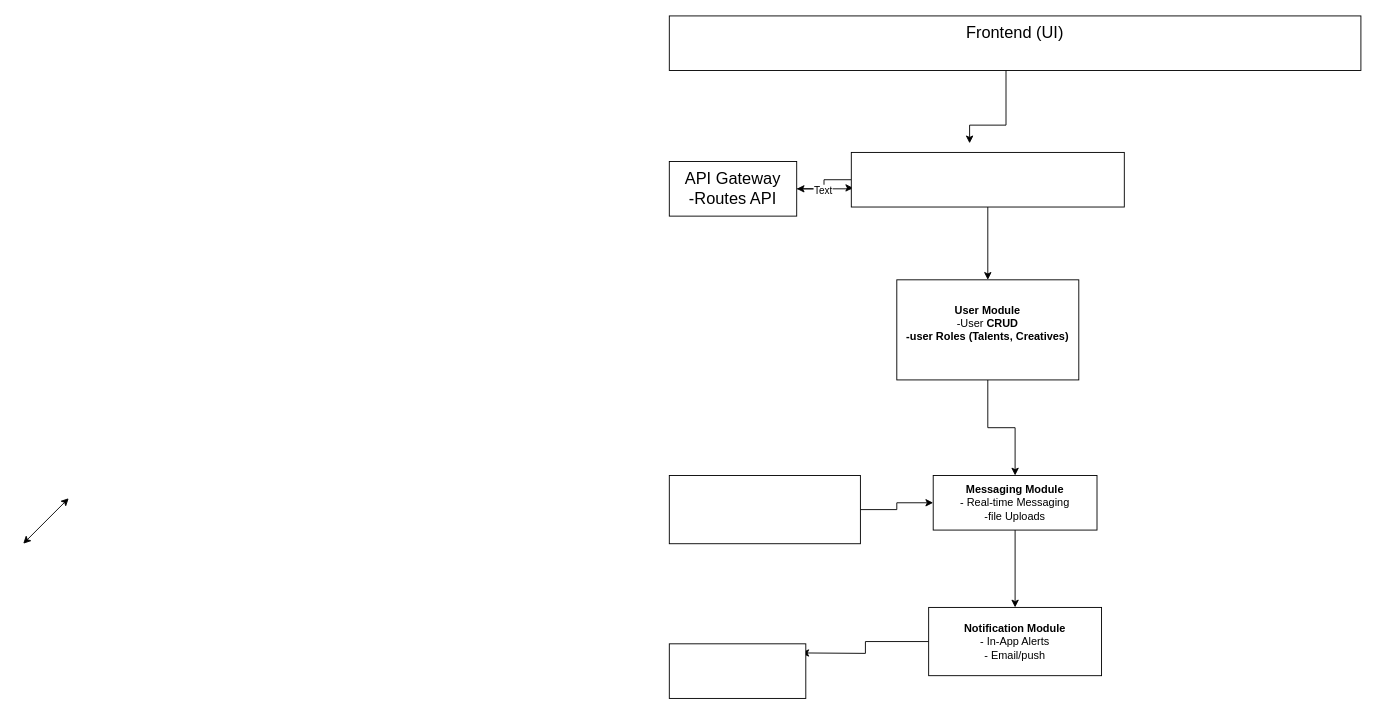
This 1377x714 diagram has some shape labels left out. Here are the shapes that lost their labels. From the top down, the box of each, then its label:
(850, 152, 1124, 207): Authentication (JWT, OAuth)
(668, 475, 860, 544): Jobs Module - Create/Update - Search/ Filter
